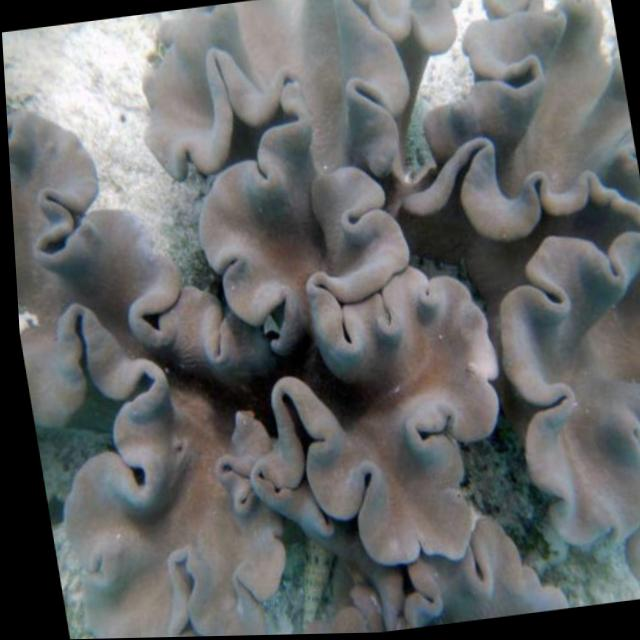Dead Coral: (1, 8, 637, 632)
